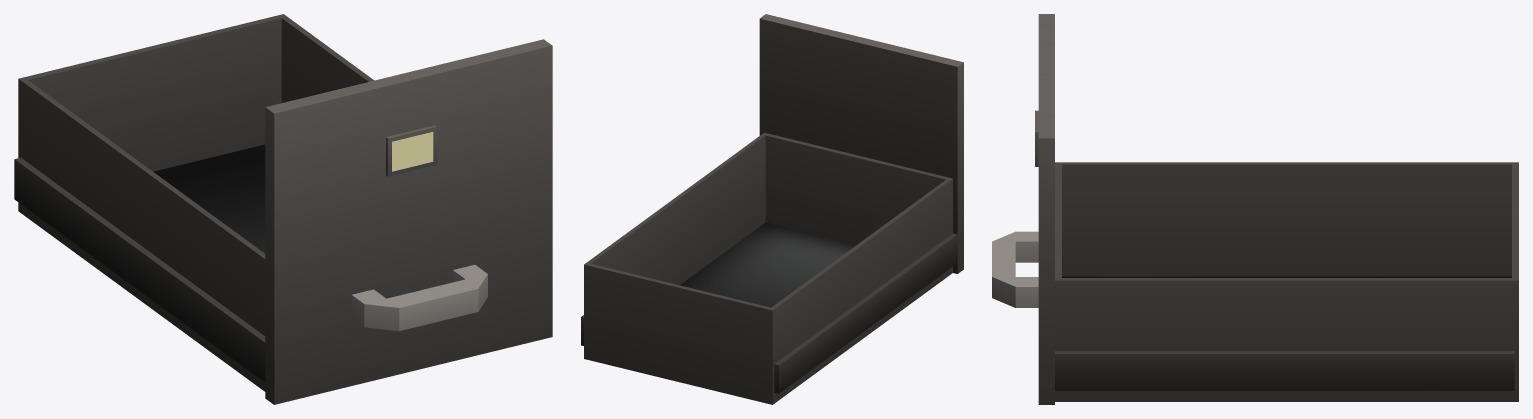
File: FilingCabinet_Drawer.fbx
The picture shows the model from 3 angles, left to right: view 1: azimuth 30°, elevation 25°; view 2: azimuth 150°, elevation 25°; view 3: azimuth 270°, elevation 25°; orthographic projection. The views are drawn at different scales.
Visible parts, largest first — view 1: FilingCabinet_Drawer; view 2: FilingCabinet_Drawer; view 3: FilingCabinet_Drawer.
Part boxes in pixels (x1,y1,x2,y2): FilingCabinet_Drawer: (14, 14, 552, 404); FilingCabinet_Drawer: (581, 14, 963, 404); FilingCabinet_Drawer: (992, 14, 1518, 404).
Size of the model in its own units: 33.38 by 33.38 by 59.78.
